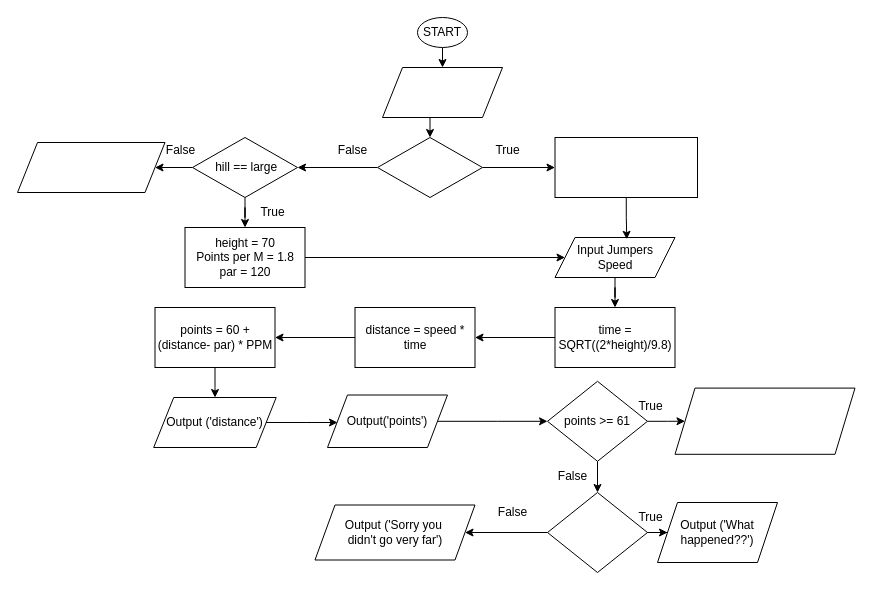
Image size: 873x590. Some labels were removed from this diagram. Here are the shapes that lost their labels. From the top down, the centre of each, then its label:
At (442,92): "Input Hill Type".
At (90,167): "Output ('Please input normal or large')".
At (429,167): "hill ==normal".
At (626,167): "height = 46 Points per M(PPM) = 2 par(distance) = 90".
At (764,420): "Output ('Great job for doing better than par!')".
At (597,532): "points < 10".
